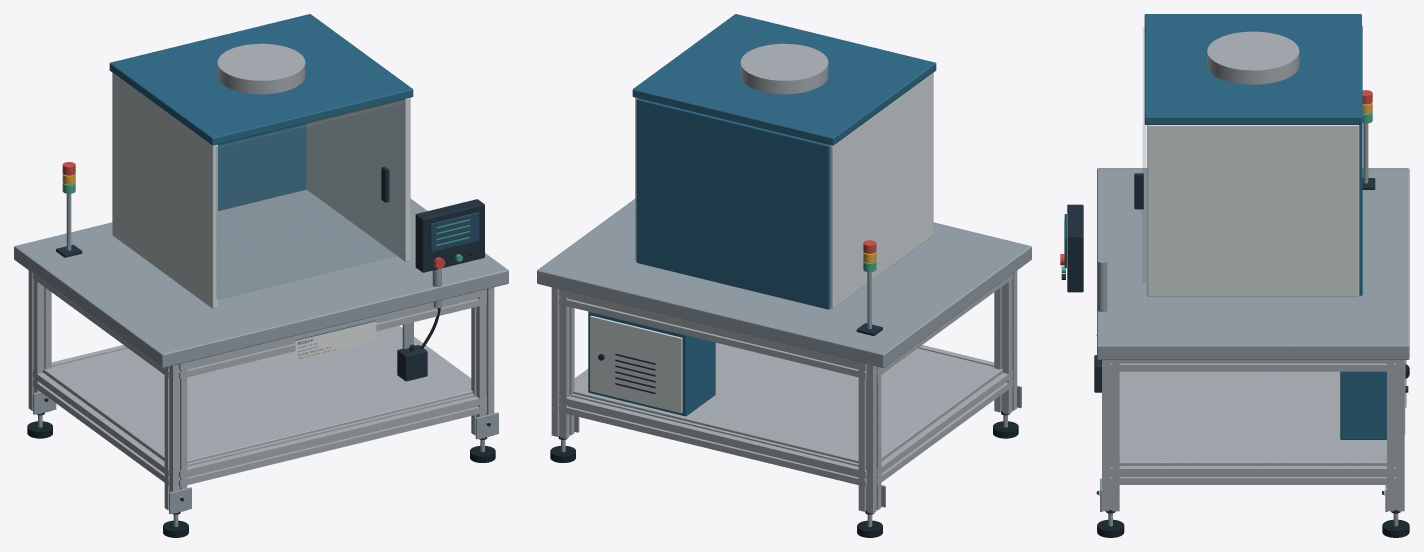
The model's file is annealing-furnace-cell.glb.
The picture shows the model from 3 angles, left to right: view 1: azimuth 30°, elevation 25°; view 2: azimuth 150°, elevation 25°; view 3: azimuth 270°, elevation 25°; orthographic projection. The views are drawn at different scales.
Parts seen in each view (by area): view 1: ClosedMachineBed_40, GuardDoor_75, LowerShelf_41, ChamberRoof_74, ChamberSide_72, ChamberSide_73, SlottedExtrusion_34, ChamberBack_71, SlottedExtrusion_35, FanHousing_86, SlottedExtrusion_11, SlottedExtrusion_36 (+7 smaller); view 2: ChamberBack_71, ClosedMachineBed_40, LowerShelf_41, ChamberRoof_74, ChamberSide_72, BackDoor_43, SlottedExtrusion_32, SlottedExtrusion_33, FanHousing_86, SlottedExtrusion_3, SlottedExtrusion_19, Cabinet_42 (+3 smaller); view 3: ChamberSide_73, ClosedMachineBed_40, LowerShelf_41, ChamberRoof_74, SlottedExtrusion_38, FanHousing_86, SlottedExtrusion_39, Cabinet_42, SlottedExtrusion_19, SlottedExtrusion_27, ConsoleBack_52, GuardDoor_75 (+4 smaller).
Boxes of the visible parts, <box> form: ClosedMachineBed_40: <box>14,189,508,367</box>; GuardDoor_75: <box>216,101,405,299</box>; LowerShelf_41: <box>43,327,472,463</box>; ChamberRoof_74: <box>109,14,413,145</box>; ChamberSide_72: <box>112,73,217,308</box>; ChamberSide_73: <box>306,97,410,261</box>; SlottedExtrusion_34: <box>179,393,486,486</box>; ChamberBack_71: <box>218,123,306,210</box>; SlottedExtrusion_35: <box>179,289,486,378</box>; FanHousing_86: <box>217,43,305,94</box>; SlottedExtrusion_11: <box>164,362,187,513</box>; SlottedExtrusion_36: <box>33,371,169,485</box>; ChamberBack_71: <box>636,98,830,309</box>; ClosedMachineBed_40: <box>537,199,1031,367</box>; LowerShelf_41: <box>573,342,1002,463</box>; ChamberRoof_74: <box>632,14,936,145</box>; ChamberSide_72: <box>830,73,933,308</box>; BackDoor_43: <box>590,315,682,413</box>; SlottedExtrusion_32: <box>559,393,866,486</box>; SlottedExtrusion_33: <box>559,289,866,378</box>; FanHousing_86: <box>740,43,828,94</box>; SlottedExtrusion_3: <box>858,363,881,513</box>; SlottedExtrusion_19: <box>551,287,574,438</box>; Cabinet_42: <box>588,311,715,416</box>; ChamberSide_73: <box>1147,125,1359,297</box>; ClosedMachineBed_40: <box>1097,168,1409,359</box>; LowerShelf_41: <box>1119,371,1386,465</box>; ChamberRoof_74: <box>1144,14,1361,124</box>; SlottedExtrusion_38: <box>1110,466,1395,484</box>; FanHousing_86: <box>1207,31,1299,84</box>; SlottedExtrusion_39: <box>1110,360,1395,371</box>; Cabinet_42: <box>1340,371,1386,439</box>; SlottedExtrusion_19: <box>1387,360,1404,511</box>; SlottedExtrusion_27: <box>1102,360,1119,511</box>; ConsoleBack_52: <box>1067,204,1083,292</box>; GuardDoor_75: <box>1143,27,1146,282</box>.
Size of the model in its own units: 1.55 by 1.64 by 1.29.
Materials: 12 (3 with a texture image).
